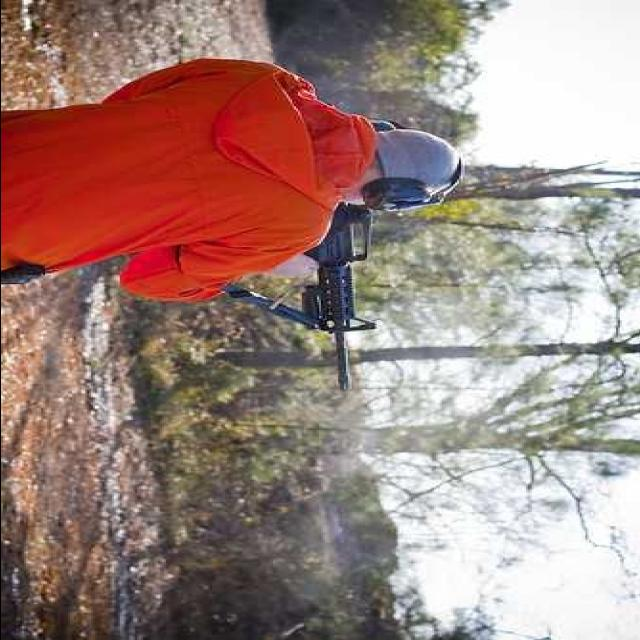heavyweapon: (212, 189, 436, 417)
